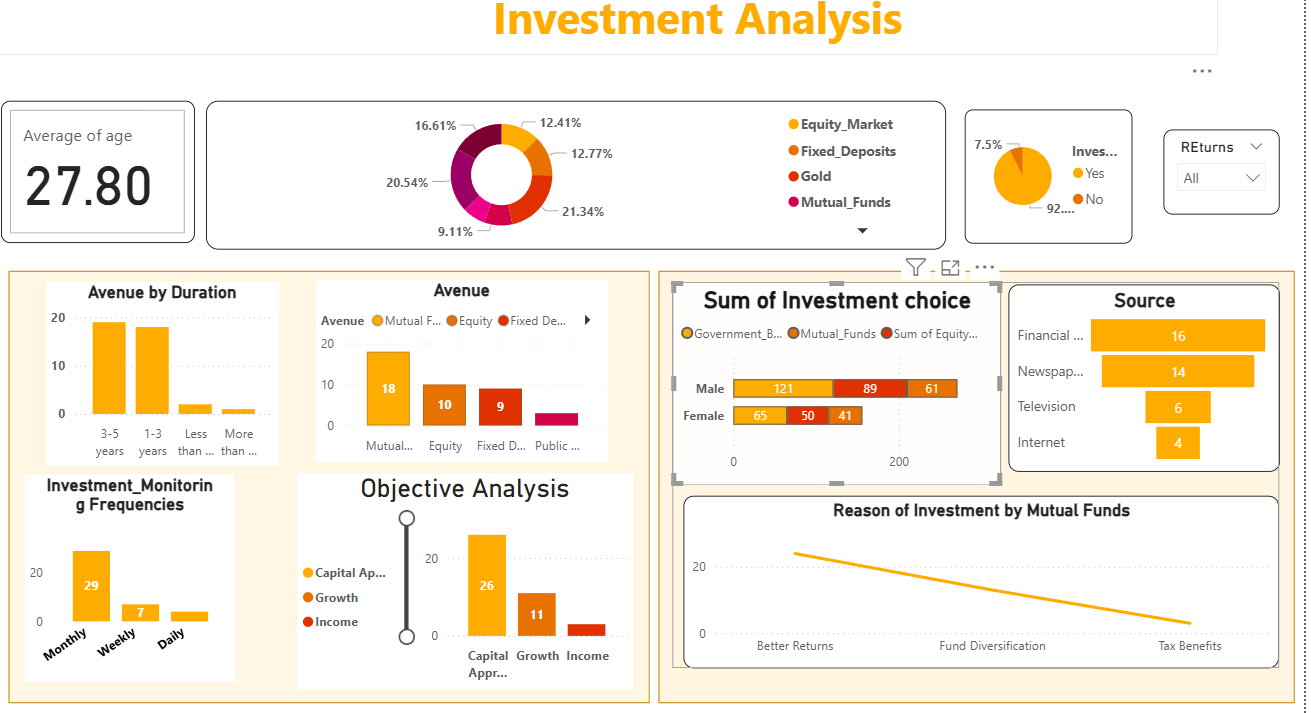

What the dashboard file says about the page in this screenshot:
{"tool":"powerbi","page":{"name":"Task 7","canvas":[1280,720],"ordinal":7},"visuals":[{"type":"pieChart","fields":{"Category":["Data_set 2 (1).Investment_Avenues"],"Y":["CountNonNull(Data_set 2 (1).age)"]},"box":[651.8,28.1,151.6,150.4],"z":0},{"type":"cardVisual","fields":{"Data":["Avg(Data_set 2 (1).age)"]},"box":[0,95.4,172.4,137],"z":1000},{"type":"donutChart","fields":{"Y":["Sum(Data_set 2 (1).Equity_Market)","Sum(Data_set 2 (1).Fixed_Deposits)","Sum(Data_set 2 (1).Gold)","Sum(Data_set 2 (1).Mutual_Funds)","Sum(Data_set 2 (1).PPF)","Sum(Data_set 2 (1).Debentures)","Sum(Data_set 2 (1).Government_Bonds)"]},"box":[0,491.3,521.4,229.2],"z":2000},{"type":"barChart","title":"Sum of Investment choice","fields":{"Category":["Data_set 2 (1).gender"],"Y":["Sum(Data_set 2 (1).Government_Bonds)","Sum(Data_set 2 (1).Mutual_Funds)","Sum(Data_set 2 (1).Equity_Market)"]},"box":[204.2,8.6,435.3,189.5],"z":3000},{"type":"columnChart","title":"Objective Analysis","fields":{"Category":["Data_set 2 (1).Objective"],"Y":["CountNonNull(Data_set 2 (1).Avenue)"],"Series":["Data_set 2 (1).Objective"]},"box":[348.5,234.8,441.4,249.5],"z":4000},{"type":"columnChart","title":"Avenue by Duration","fields":{"Category":["Data_set 2 (1).Duration"],"Y":["CountNonNull(Data_set 2 (1).Avenue)"]},"box":[0,256.8,330.2,215.2],"z":5000},{"type":"clusteredColumnChart","title":"Investment_Monitoring  Frequencies","fields":{"Category":["Data_set 2 (1).Invest_Monitor"],"Y":["CountNonNull(Data_set 2 (1).Invest_Monitor)"]},"box":[1070,406,196.9,299.6],"z":6000},{"type":"donutChart","title":"          Gender","fields":{"Y":["CountNonNull(Data_set 2 (1).gender)"],"Category":["Data_set 2 (1).gender"]},"box":[1059,215.2,207.9,166.3],"z":7000},{"type":"columnChart","title":"Avenue","fields":{"Category":["Data_set 2 (1).Avenue"],"Y":["CountNonNull(Data_set 2 (1).Source)"],"Series":["Data_set 2 (1).Avenue"]},"box":[547.8,505,511.1,190.8],"z":8000},{"type":"lineChart","title":"Reason of Investment by Mutual Funds","fields":{"Category":["Data_set 2 (1).Reason_Mutual"],"Y":["CountNonNull(Data_set 2 (1).Reason_Mutual)"]},"box":[813.2,8.6,467.1,170],"z":9000},{"type":"slicer","fields":{"Values":["Data_set 2 (1).Avenue"]},"box":[0,8.6,184.6,73.4],"z":10000},{"type":"funnel","title":"Source","fields":{"Category":["Data_set 2 (1).Source"],"Y":["CountNonNull(Data_set 2 (1).Source)"]},"box":[821.7,232.3,225,239.7],"z":11000}]}

Visuals, with their boxes on the page's 1280x720 design canvas (x1, y1, x2, y2). These are canvas units, not pixel positions in the 1315x713 screenshot, which may show the page scaled, cropped or inside an application window:
pieChart - Data_set 2 (1).Investment_Avenues x CountNonNull(Data_set 2 (1).age): Rect(652, 28, 803, 178)
cardVisual - Avg(Data_set 2 (1).age): Rect(0, 95, 172, 232)
donutChart - Sum(Data_set 2 (1).Equity_Market) x Sum(Data_set 2 (1).Fixed_Deposits): Rect(0, 491, 521, 720)
"Sum of Investment choice" barChart: Rect(204, 9, 640, 198)
"Objective Analysis" columnChart: Rect(348, 235, 790, 484)
"Avenue by Duration" columnChart: Rect(0, 257, 330, 472)
"Investment_Monitoring  Frequencies" clusteredColumnChart: Rect(1070, 406, 1267, 706)
"          Gender" donutChart: Rect(1059, 215, 1267, 382)
"Avenue" columnChart: Rect(548, 505, 1059, 696)
"Reason of Investment by Mutual Funds" lineChart: Rect(813, 9, 1280, 179)
slicer - Data_set 2 (1).Avenue: Rect(0, 9, 185, 82)
"Source" funnel: Rect(822, 232, 1047, 472)
